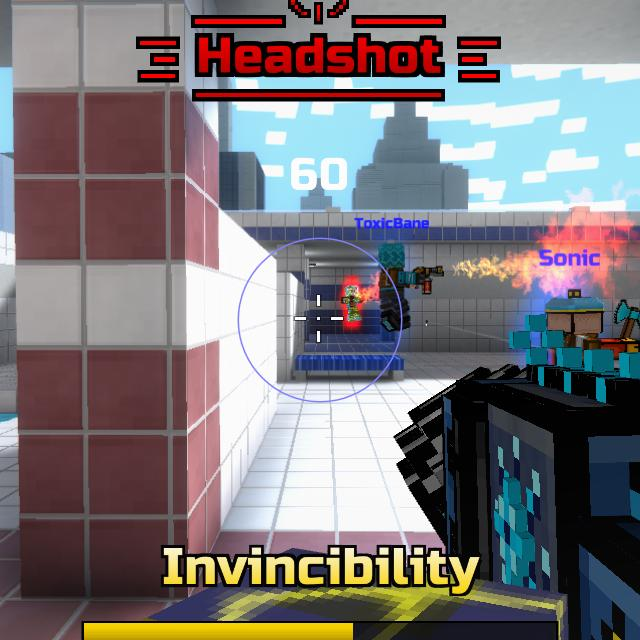Enemy: (341, 285, 362, 321)
